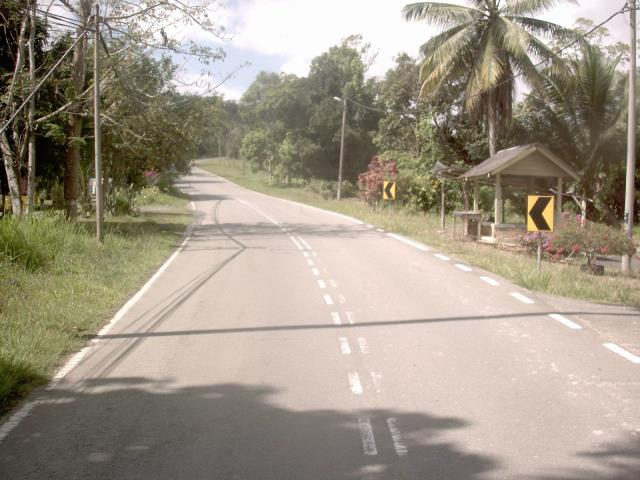traffic_sign: (519, 187, 561, 240)
